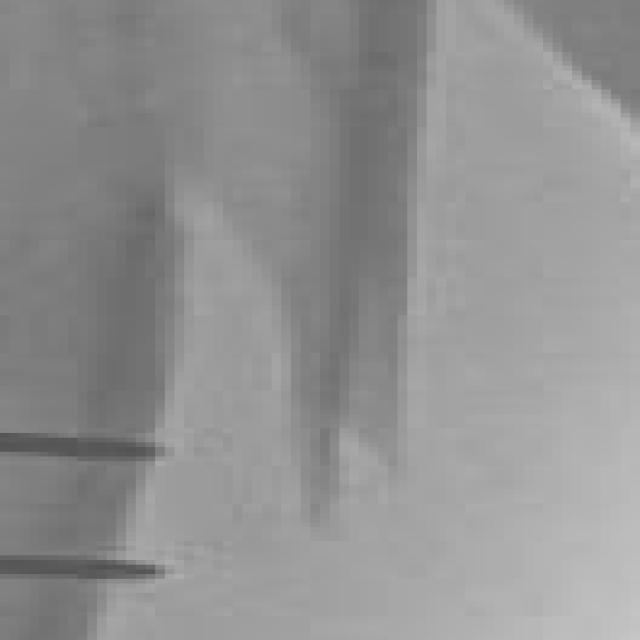fracture: (3, 1, 640, 640)
